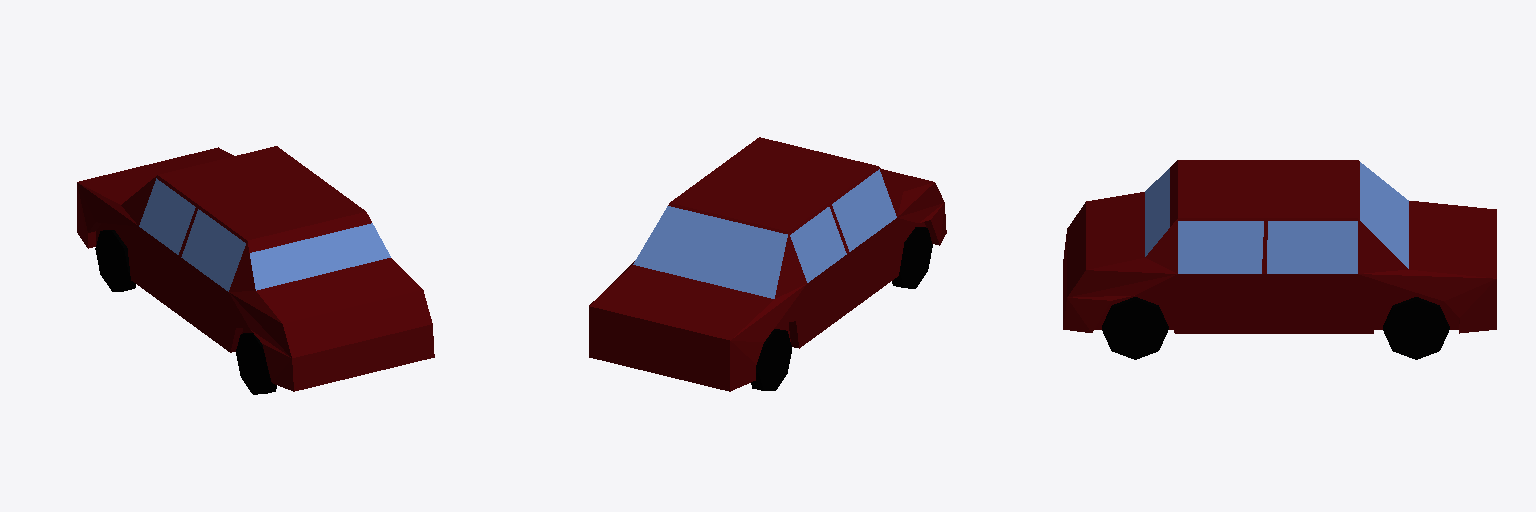
The model's file is Car.obj.
3 views of the same model, side by side, from view 1: azimuth 30°, elevation 25°; view 2: azimuth 150°, elevation 25°; view 3: azimuth 270°, elevation 25° (orthographic).
Parts seen in each view (by area): view 1: Cube; view 2: Cube; view 3: Cube.
Part boxes in pixels (x1,y1,x2,y2): Cube: (77,146,434,394); Cube: (589,137,946,391); Cube: (1063,160,1496,359).
Size of the model in its own units: 1.42 by 1.17 by 3.41.